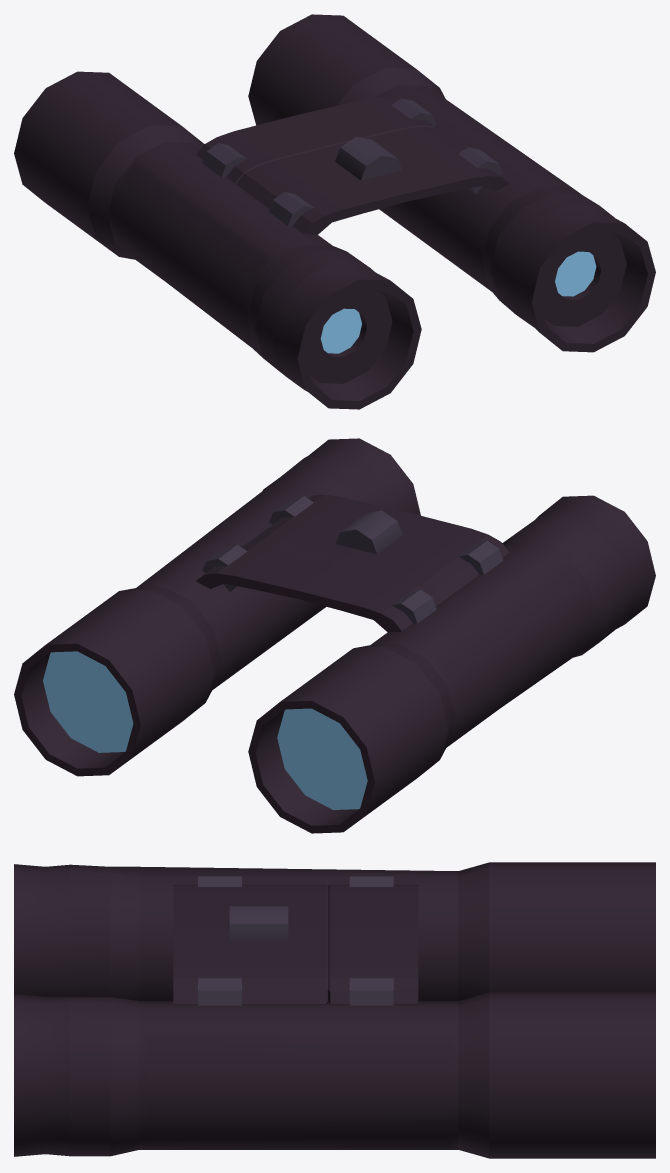
Rendered from binoculars..fbx.
3 views of the same model, one above another, from view 1: azimuth 30°, elevation 25°; view 2: azimuth 150°, elevation 25°; view 3: azimuth 270°, elevation 25° (orthographic). The views are drawn at different scales.
Visible parts, largest first — view 1: binoculars.001; view 2: binoculars.001; view 3: binoculars.001.
Part boxes in pixels (x1,y1,x2,y2): binoculars.001: [14, 14, 655, 409]; binoculars.001: [14, 438, 655, 833]; binoculars.001: [14, 862, 655, 1158].
Size of the model in its own units: 14.29 by 5.95 by 19.33.
